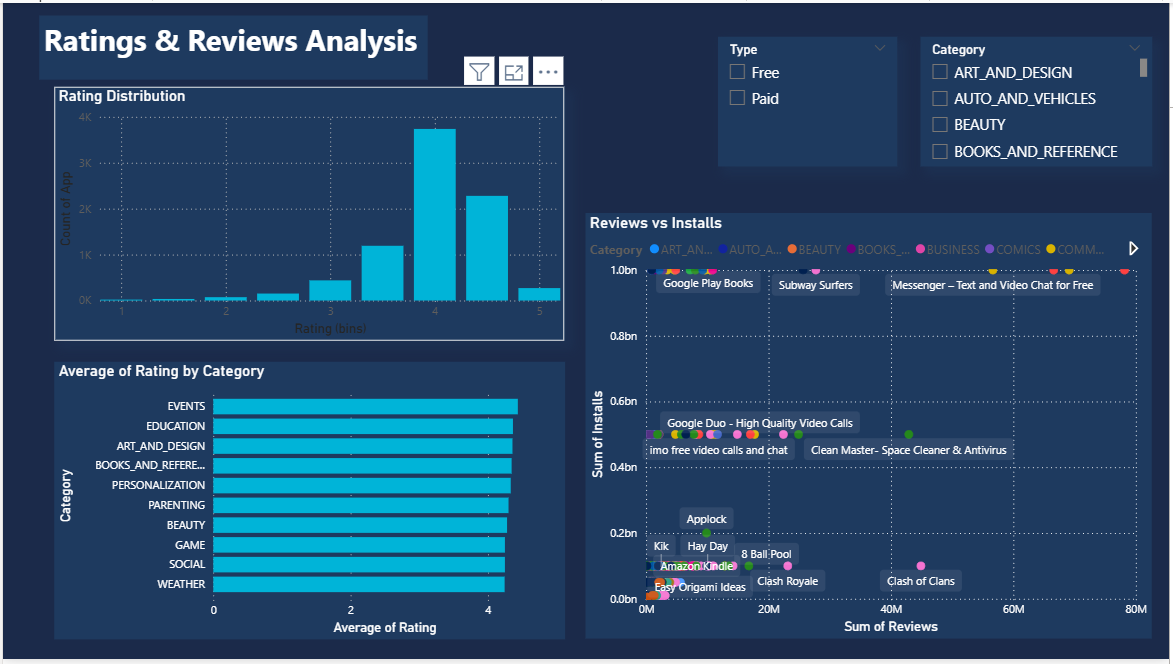

Layout of this report page (visuals, bound fields, positions):
{"tool":"powerbi","page":{"name":"Page 2","canvas":[1280,720],"ordinal":1},"visuals":[{"type":"clusteredColumnChart","title":"Rating Distribution","fields":{"Category":["cleaned_playstore.Rating (bins)"],"Y":["CountNonNull(cleaned_playstore.App)"]},"box":[55.7,91.8,560.7,278.7],"z":0},{"type":"clusteredBarChart","fields":{"Category":["cleaned_playstore.Category"],"Y":["Avg(cleaned_playstore.Rating)"]},"box":[55.7,393.4,560.7,304.9],"z":1000},{"type":"scatterChart","title":"Reviews vs Installs","fields":{"X":["Sum(cleaned_playstore.Reviews)"],"Y":["Sum(cleaned_playstore.Installs)"],"Series":["cleaned_playstore.Category"],"Category":["cleaned_playstore.App"]},"box":[639.3,231.1,621.3,467.2],"z":2000},{"type":"slicer","fields":{"Values":["cleaned_playstore.Category"]},"box":[1006.6,37.7,254.1,142.6],"z":3000},{"type":"slicer","fields":{"Values":["cleaned_playstore.Type"]},"box":[785.2,37.7,196.7,142.6],"z":4000},{"type":"textbox","box":[39.3,13.1,426.2,70.5],"z":5000}]}

Visuals, with their boxes in screenshot pixels (x1, y1, x2, y2), scaled from the page's 1280x720 canvas onto the 1173x664 screenshot:
"Rating Distribution" clusteredColumnChart: bbox=[51, 85, 565, 342]
clusteredBarChart - cleaned_playstore.Category x Avg(cleaned_playstore.Rating): bbox=[51, 363, 565, 644]
"Reviews vs Installs" scatterChart: bbox=[586, 213, 1155, 644]
slicer - cleaned_playstore.Category: bbox=[922, 35, 1155, 166]
slicer - cleaned_playstore.Type: bbox=[720, 35, 900, 166]
textbox: bbox=[36, 12, 427, 77]
